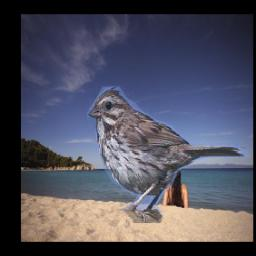Sparrow: (87, 83, 249, 223)
